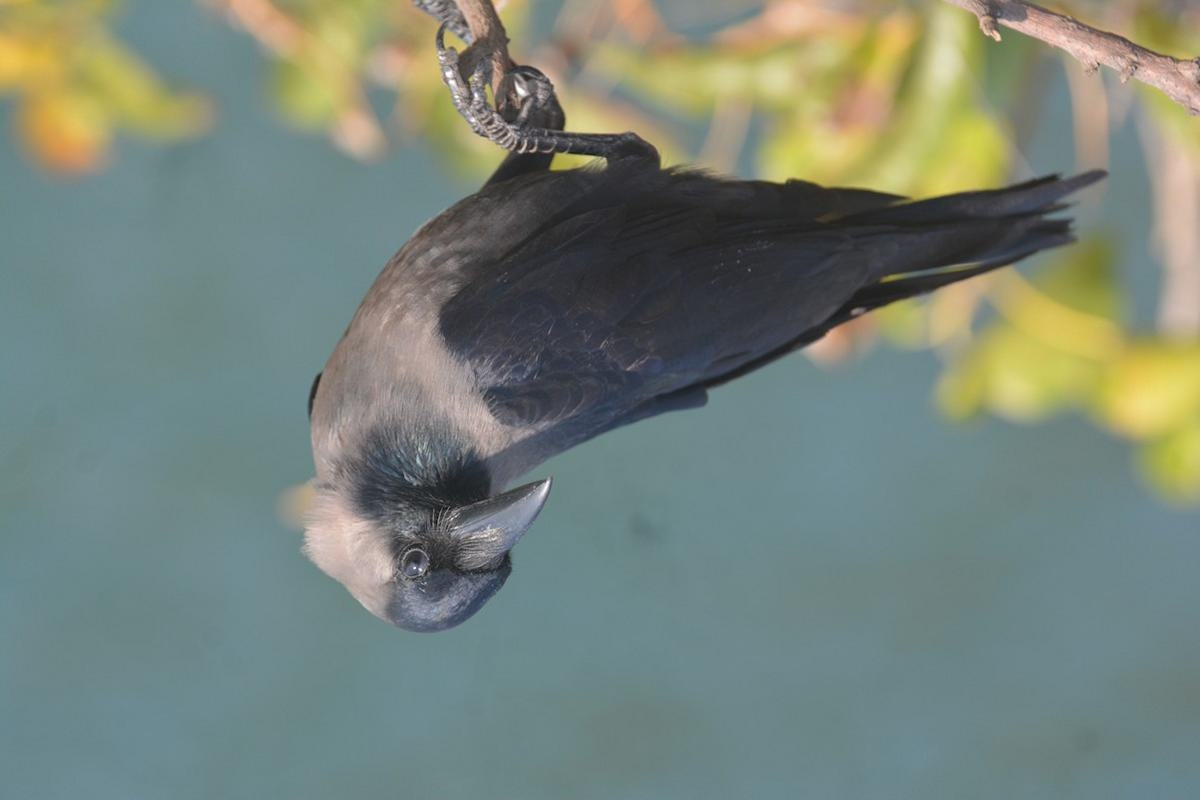crow: (285, 22, 1112, 637)
